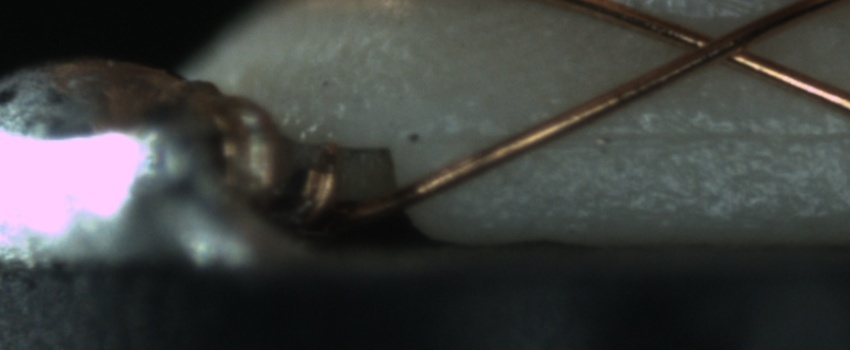CL: (671, 19, 771, 73)
DL: (492, 106, 850, 170)
TE: (203, 84, 341, 231)
